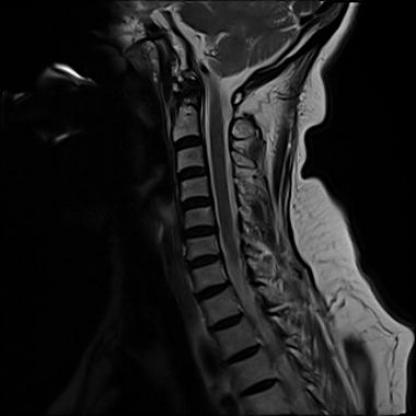Disc Bulgerotation: (185, 251, 225, 273), (183, 220, 217, 244)
